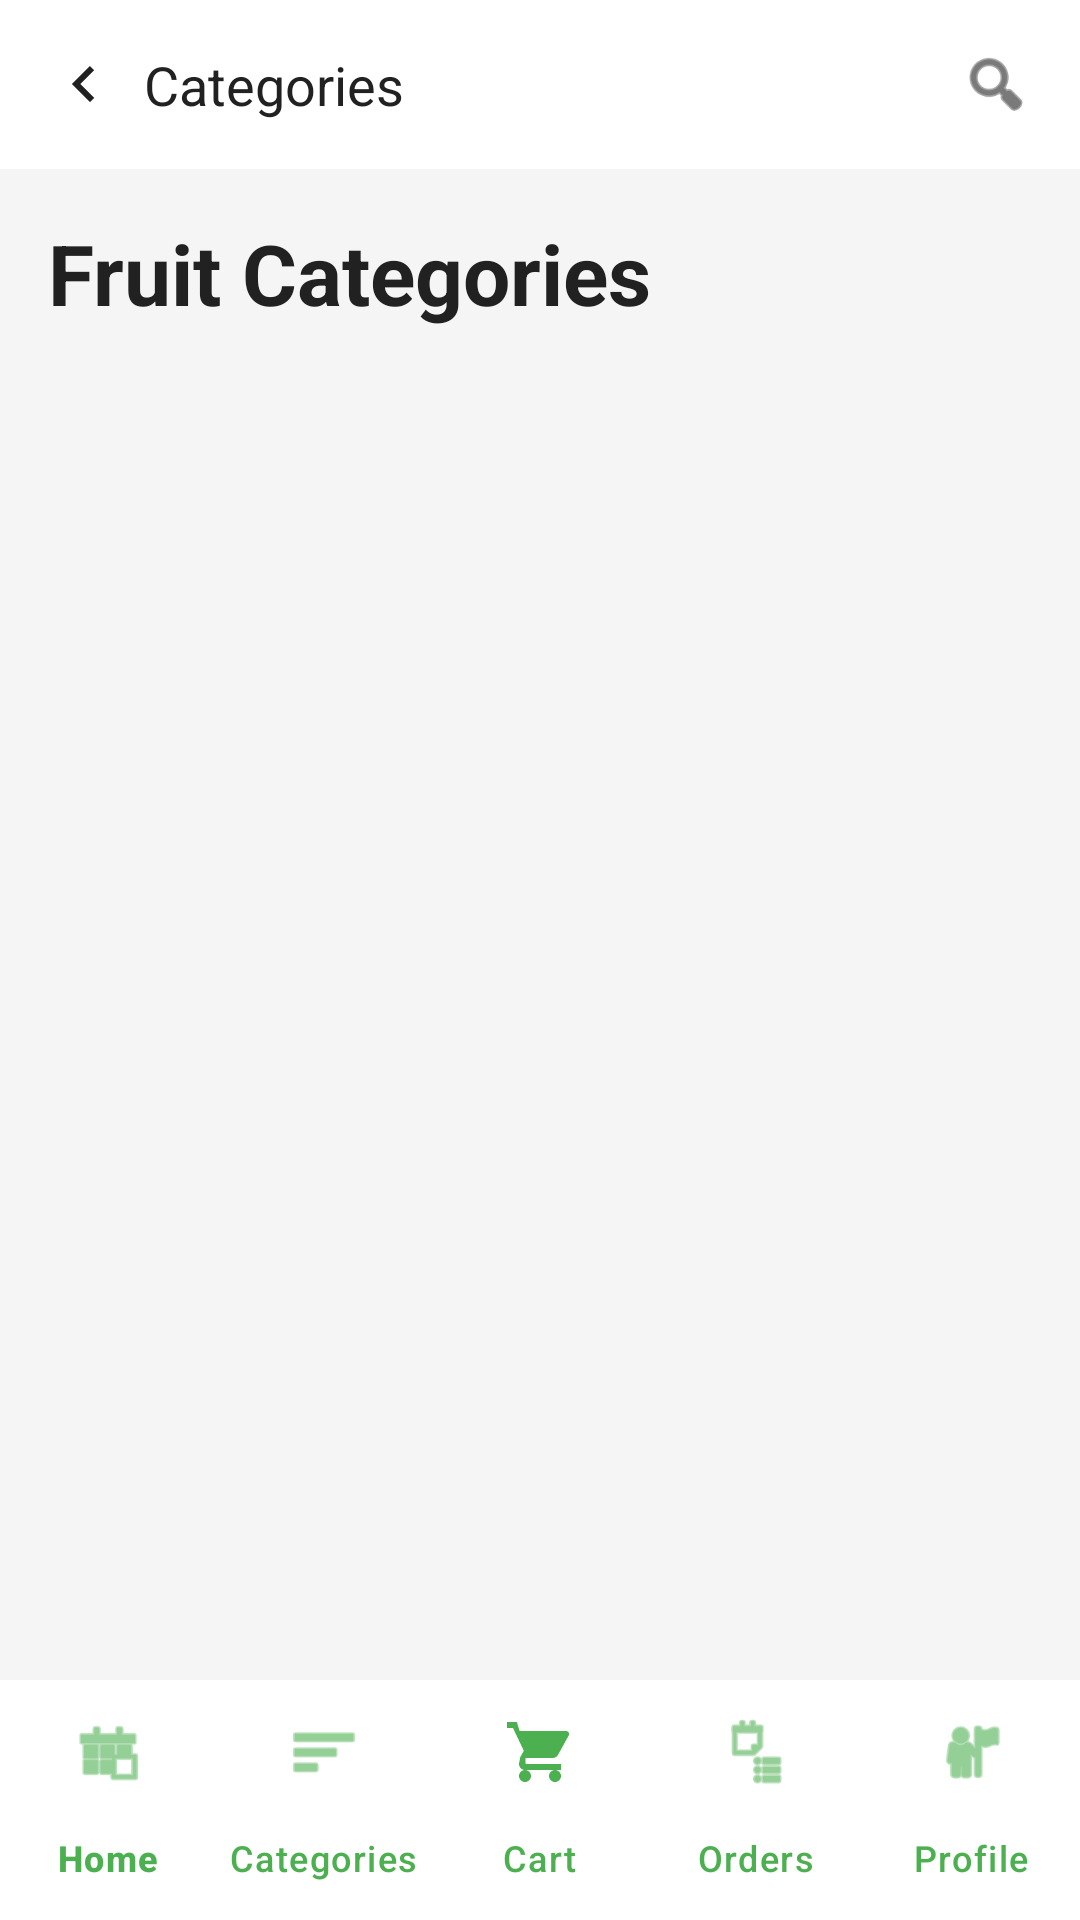

Icon bounding boxes for this 1080 x 1920 phone screenshot, format bbox(x1, y1, x2, y2):
search: bbox(969, 58, 1023, 111)
